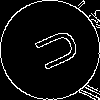U: (25, 25, 82, 77)
